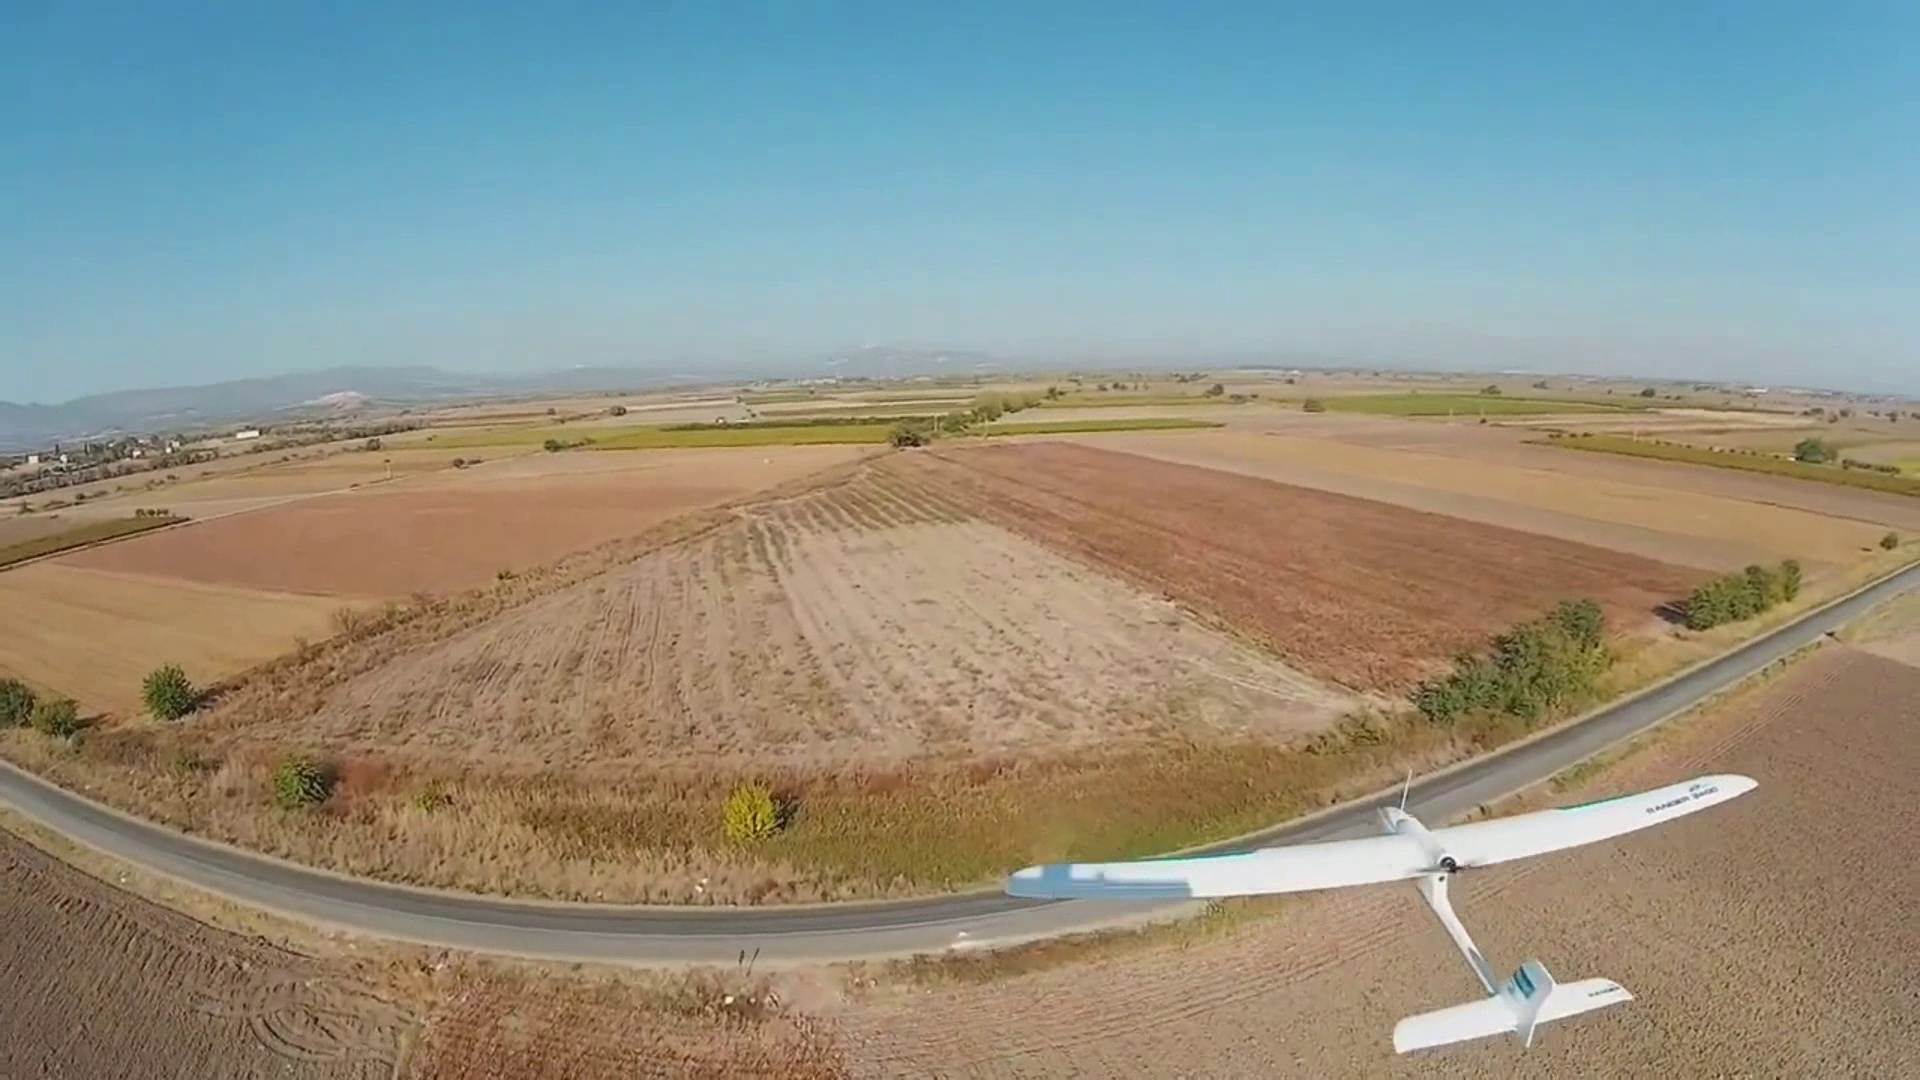airplane: (22, 553, 1911, 1052)
